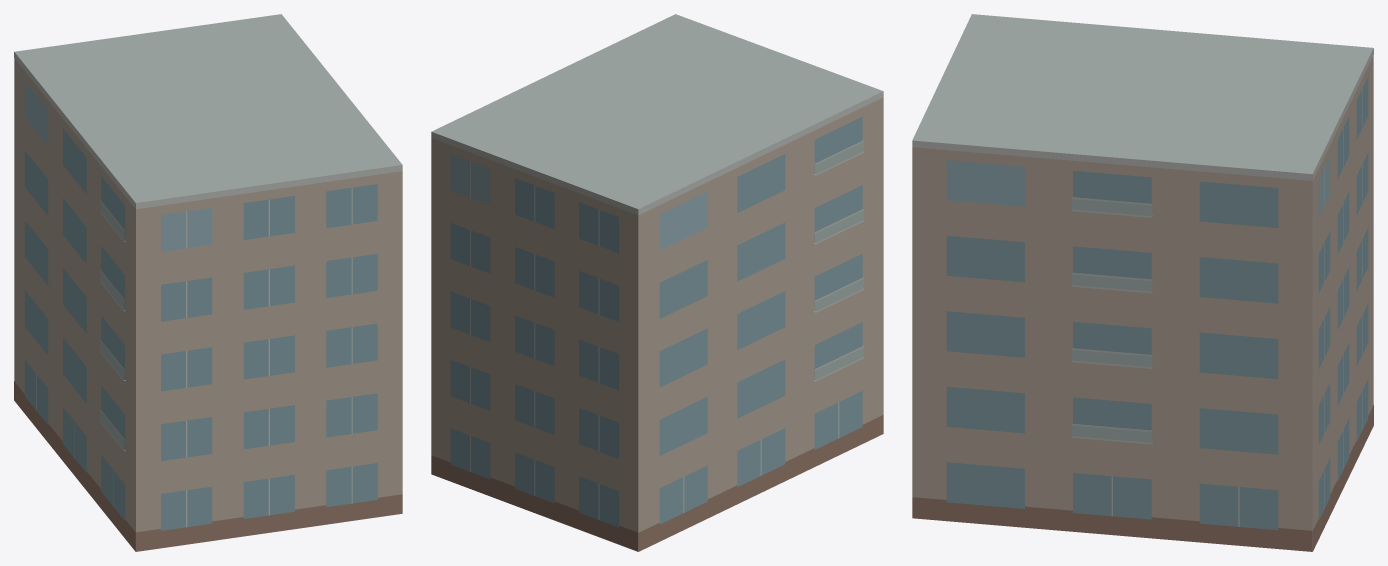
Rendered from survey-upis-32881841.glb.
The picture shows the model from 3 angles, left to right: view 1: azimuth 30°, elevation 25°; view 2: azimuth 150°, elevation 25°; view 3: azimuth 270°, elevation 25°; orthographic projection. The views are drawn at different scales.
Visible parts, largest first — view 1: survey-upis-32881841.tmp; view 2: survey-upis-32881841.tmp; view 3: survey-upis-32881841.tmp.
Part boxes in pixels (x1,y1,x2,y2): survey-upis-32881841.tmp: (14,14,402,551); survey-upis-32881841.tmp: (431,14,883,551); survey-upis-32881841.tmp: (912,14,1373,551).
Size of the model in its own units: 12.56 by 13.8 by 15.3.
